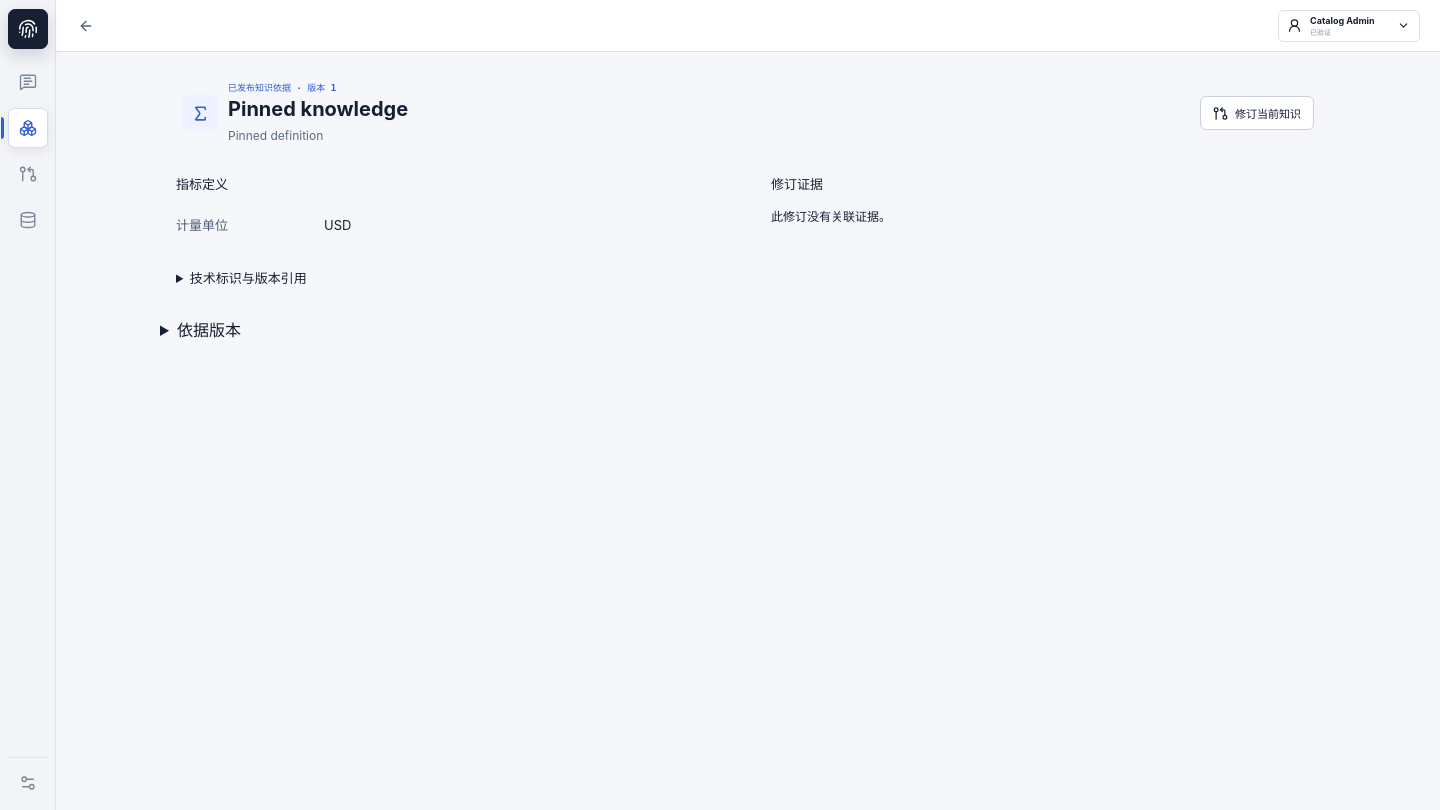
Test: loads an uncached correction's current baseline while preserving the answer pin as context
Click the button "修订当前知识".
click(1257, 113)  # box [1200, 96, 1314, 130]
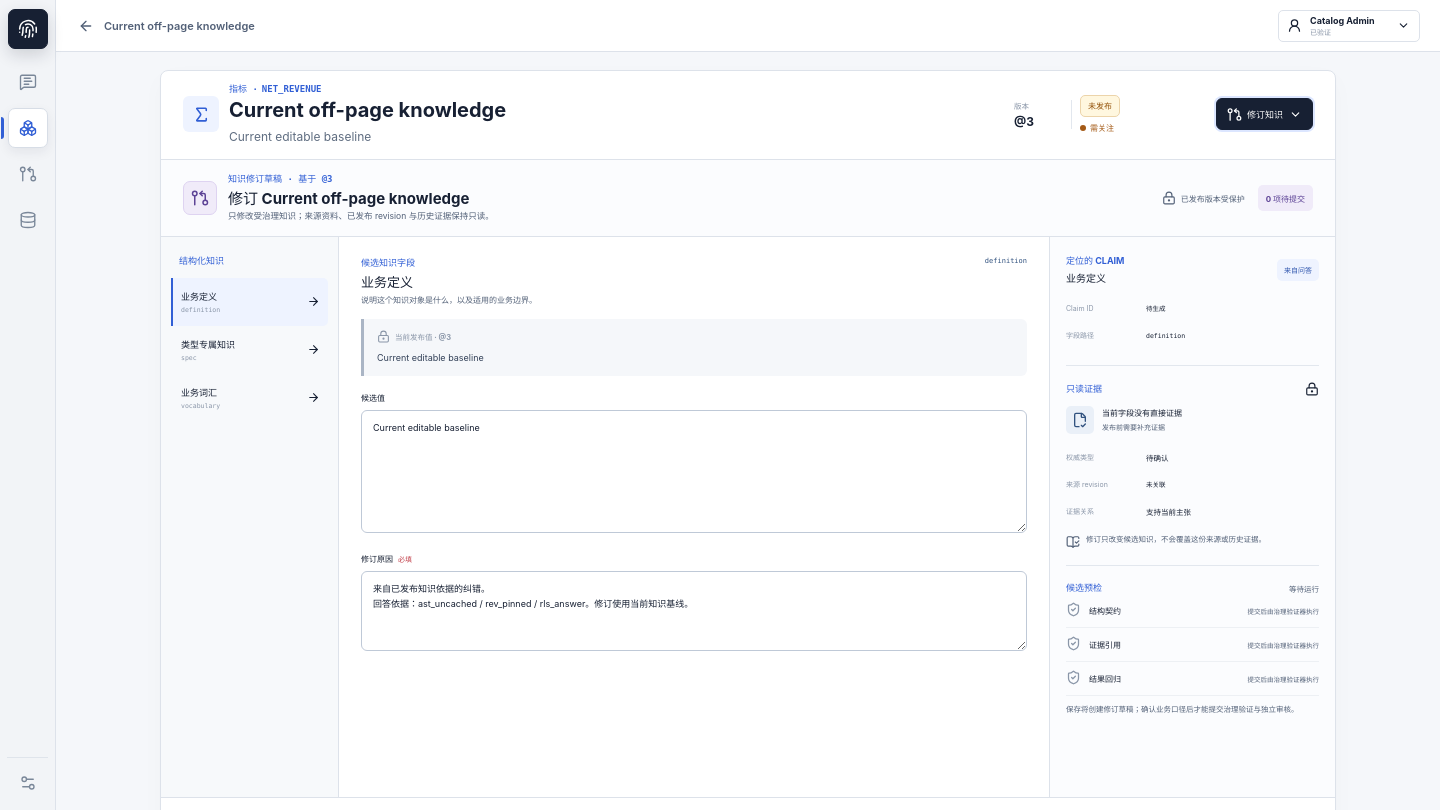
expect the text box named "业务定义候选值" holds "Current editable baseline": met, box [361, 410, 1027, 533]
